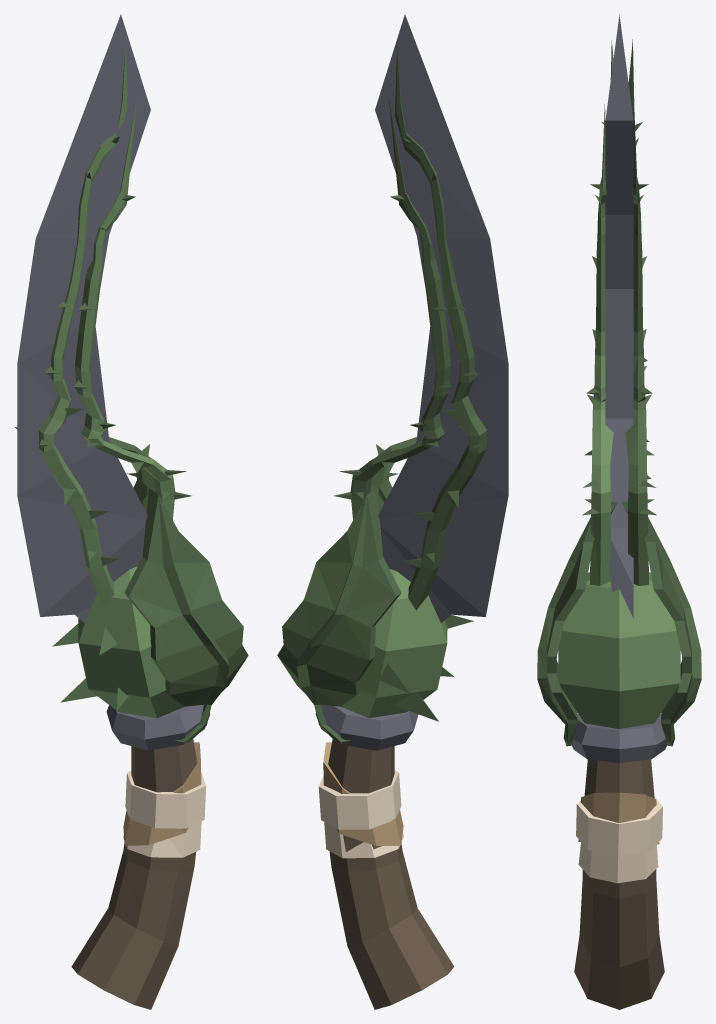
The model's file is dagger_dagger_21.glb.
3 renders of one model, left to right at view 1: azimuth 30°, elevation 25°; view 2: azimuth 150°, elevation 25°; view 3: azimuth 270°, elevation 25°, orthographic.
Parts seen in each view (by area): view 1: dagger_21; view 2: dagger_21; view 3: dagger_21.
Boxes of the visible parts, x1=… form: dagger_21: x1=15, y1=14, x2=248, y2=1009; dagger_21: x1=277, y1=14, x2=508, y2=1009; dagger_21: x1=537, y1=14, x2=701, y2=1009.
Size of the model in its own units: 11.26 by 54.18 by 8.21.
Materials: 1 (1 with a texture image).
